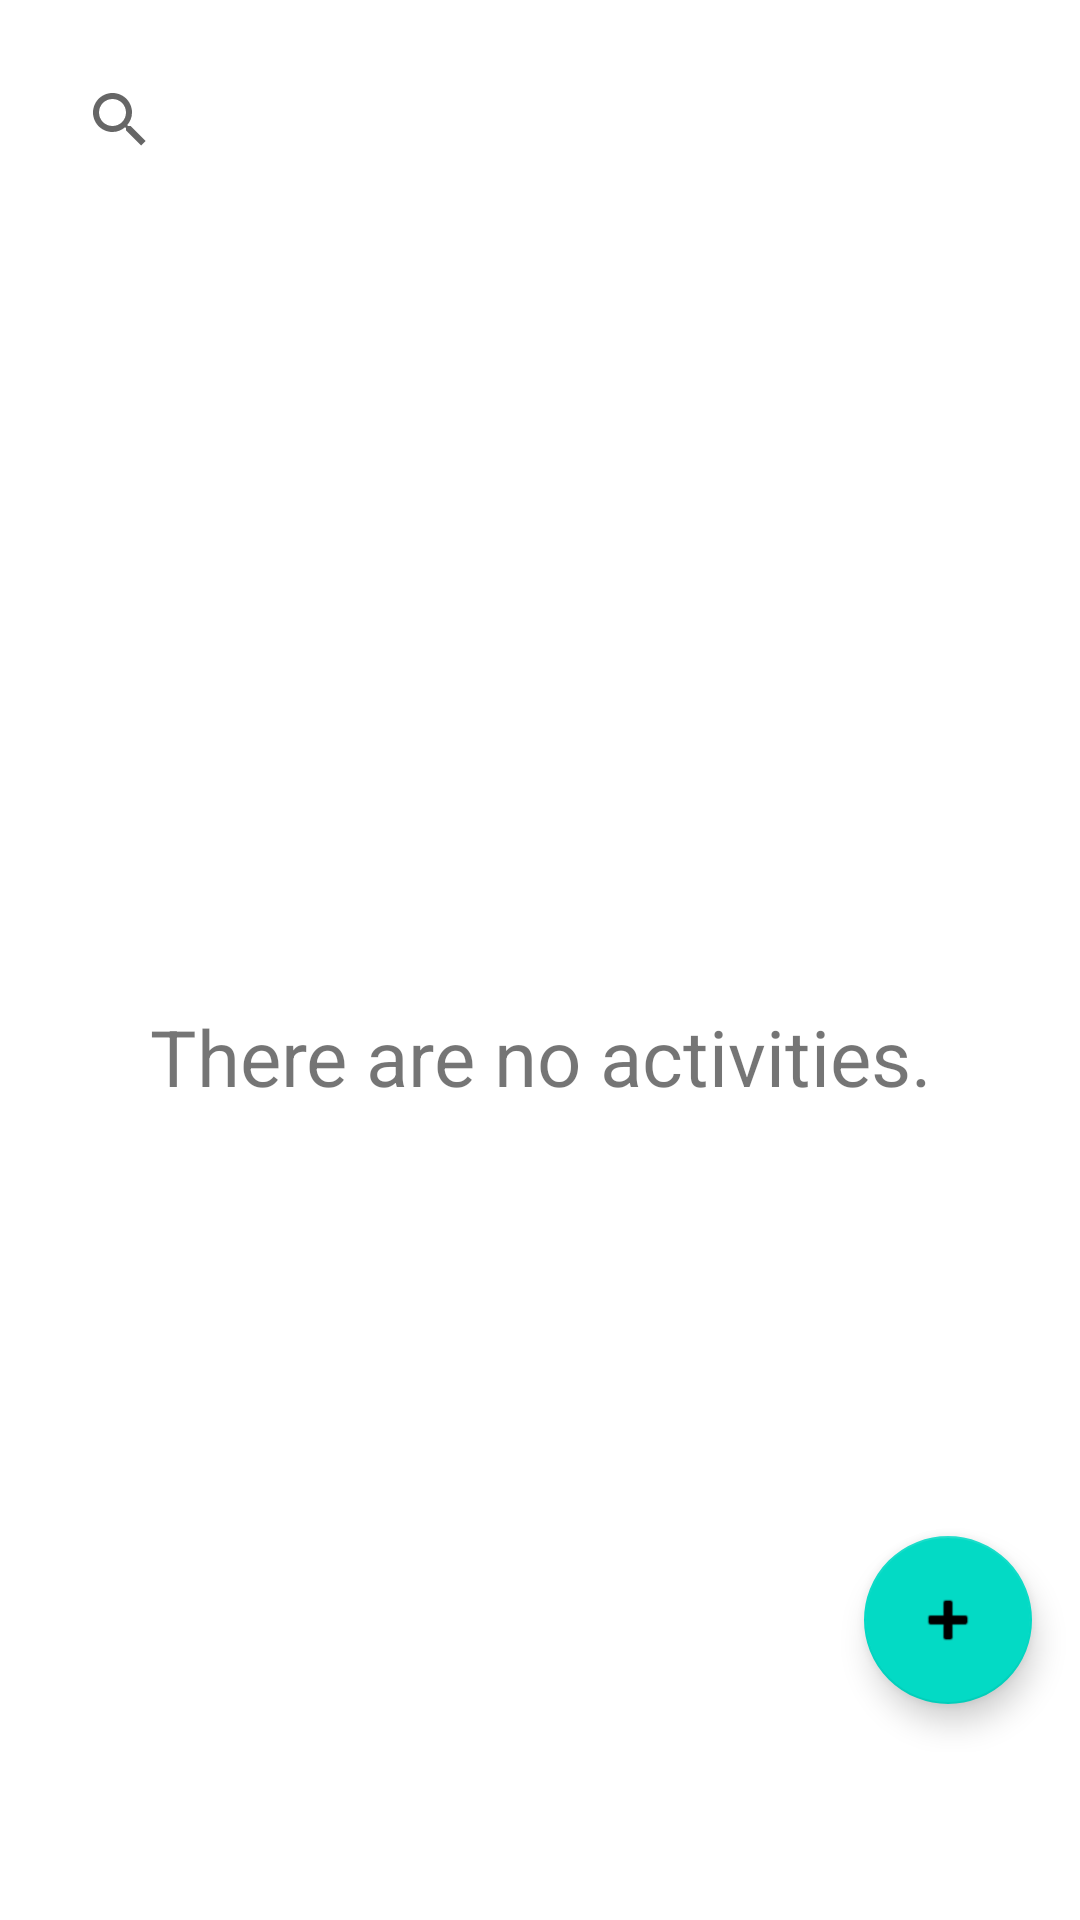

Named icons in this screenshot (1080*1920) and their centers, point (x, y):
add: point (948, 1620)
